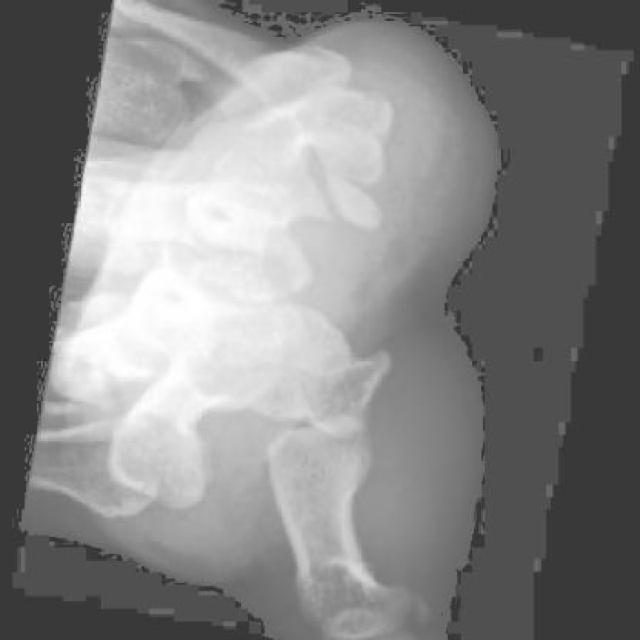Fracture: (302, 165, 356, 227)
